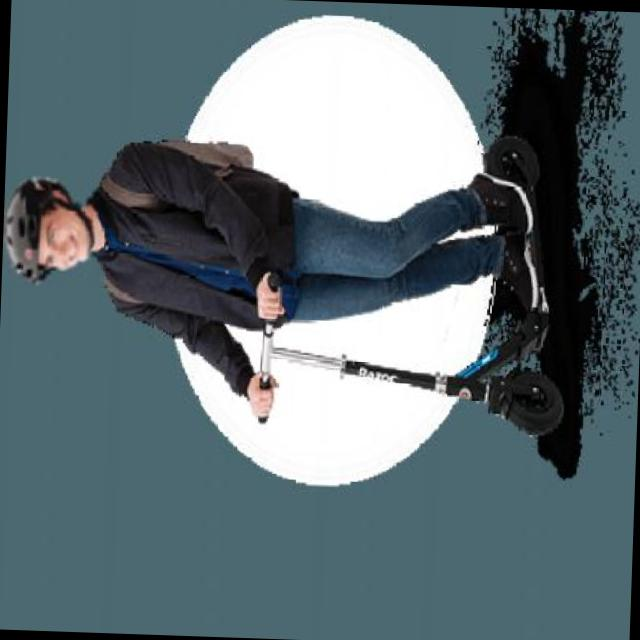With Helmet: (1, 166, 102, 289)
